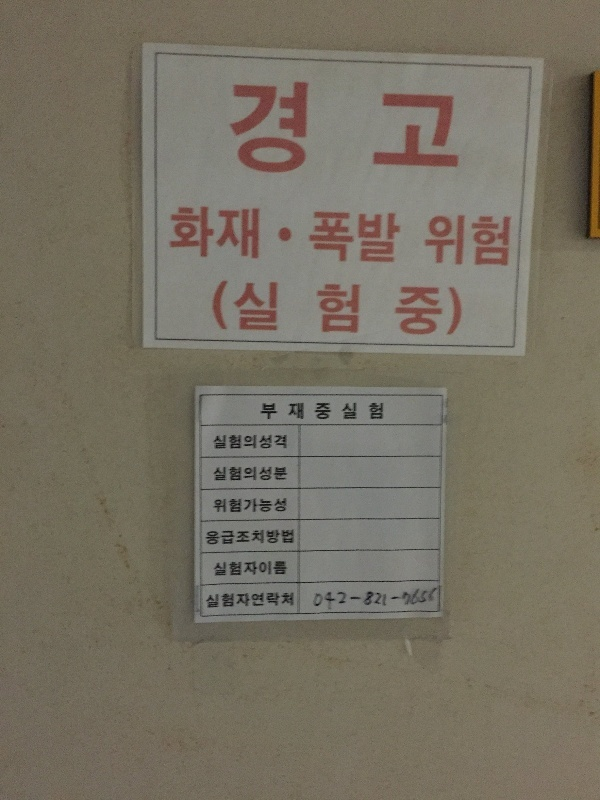text: (241, 79, 256, 177), (257, 79, 272, 177), (273, 79, 288, 177), (289, 79, 304, 177), (305, 79, 320, 177), (321, 79, 336, 177), (337, 79, 352, 177), (353, 79, 368, 177), (369, 79, 384, 177), (385, 79, 400, 177), (401, 79, 416, 177), (417, 79, 432, 177), (433, 79, 448, 177), (449, 79, 460, 177), (225, 276, 240, 341), (241, 276, 256, 341), (257, 276, 272, 341), (273, 276, 288, 341), (289, 276, 304, 341), (305, 276, 320, 341), (321, 276, 336, 341), (337, 276, 352, 341), (353, 276, 368, 341), (369, 276, 384, 341), (385, 276, 400, 341), (401, 276, 416, 341), (417, 276, 432, 341), (433, 276, 448, 341), (449, 276, 463, 341), (385, 210, 401, 266), (177, 202, 192, 261), (193, 202, 208, 261), (209, 202, 224, 261), (225, 202, 240, 261), (241, 202, 256, 261), (433, 212, 448, 269), (449, 212, 464, 269), (465, 212, 480, 269), (481, 212, 496, 269), (497, 212, 512, 269), (321, 210, 336, 266), (337, 210, 352, 266), (353, 210, 368, 266), (369, 210, 384, 266), (232, 79, 240, 177), (213, 276, 224, 341), (167, 202, 176, 261), (311, 210, 320, 266), (321, 585, 336, 612), (337, 585, 352, 612), (353, 585, 368, 612), (369, 585, 384, 612), (385, 585, 400, 612), (401, 585, 416, 612), (417, 585, 432, 612), (273, 401, 288, 421), (289, 401, 304, 421), (305, 401, 320, 421), (321, 401, 336, 421), (337, 401, 352, 421), (353, 401, 368, 421), (369, 401, 384, 421), (225, 434, 240, 452), (241, 434, 256, 452), (257, 434, 272, 452), (225, 465, 240, 483), (241, 465, 256, 483), (257, 465, 272, 483), (209, 592, 224, 610), (225, 592, 240, 610), (241, 592, 256, 610), (257, 592, 272, 610), (273, 592, 288, 610), (209, 529, 224, 546), (225, 529, 240, 546), (241, 529, 256, 546), (257, 529, 272, 546), (273, 529, 288, 546), (225, 560, 240, 577), (241, 560, 256, 577), (257, 560, 272, 577), (273, 434, 287, 452), (273, 465, 287, 483), (260, 401, 272, 421), (225, 498, 240, 514), (241, 498, 256, 514), (257, 498, 272, 514), (257, 202, 261, 261), (428, 212, 432, 269), (273, 498, 287, 514), (273, 560, 286, 577), (214, 434, 224, 452), (216, 465, 224, 483), (215, 498, 224, 514), (315, 585, 320, 612), (217, 560, 224, 577), (433, 585, 437, 612), (289, 592, 294, 610), (289, 529, 294, 546), (206, 529, 208, 546), (207, 592, 208, 610)
